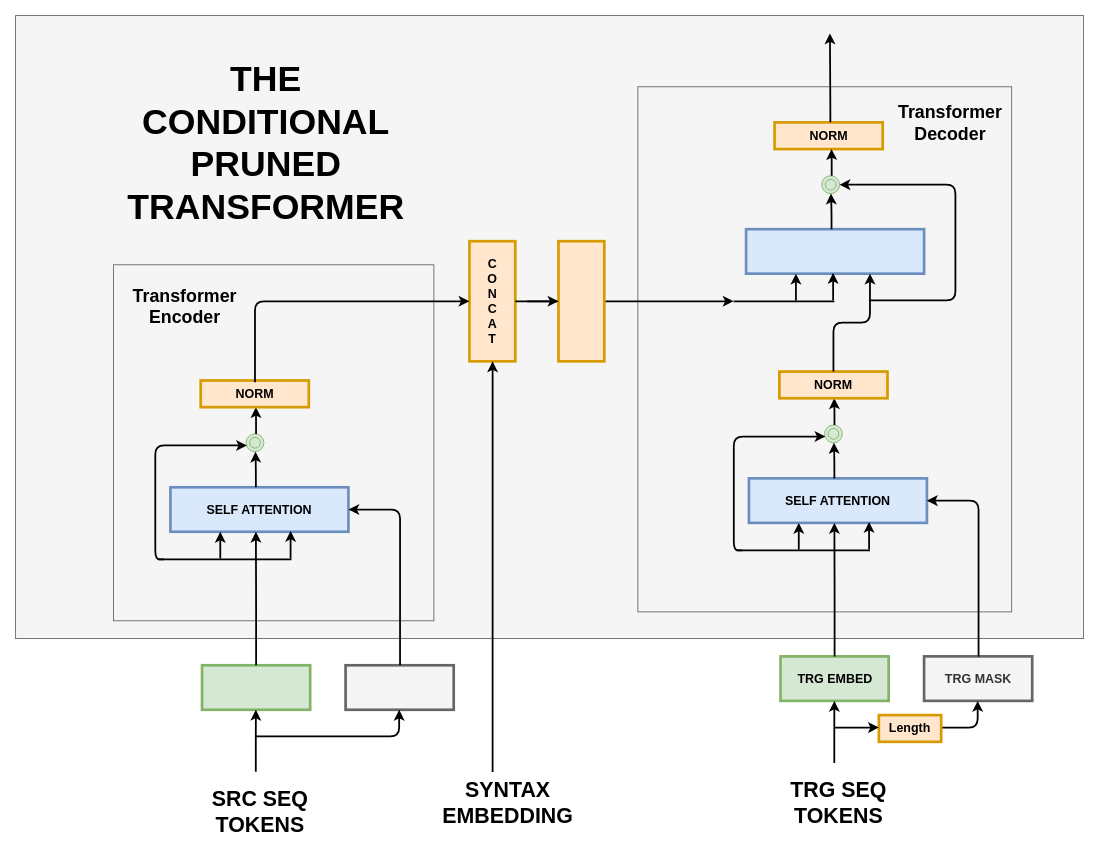
Image size: 1099x854. Some labels were removed from this diagram. The centre of each missing label's shape, as x and y in pixels:
"CROSS ATTENTION" goes at point 834,251.
"L I N E A R" goes at point 581,300.
"SRC EMBED" goes at point 255,687.
"SRC MASK" goes at point 399,687.
